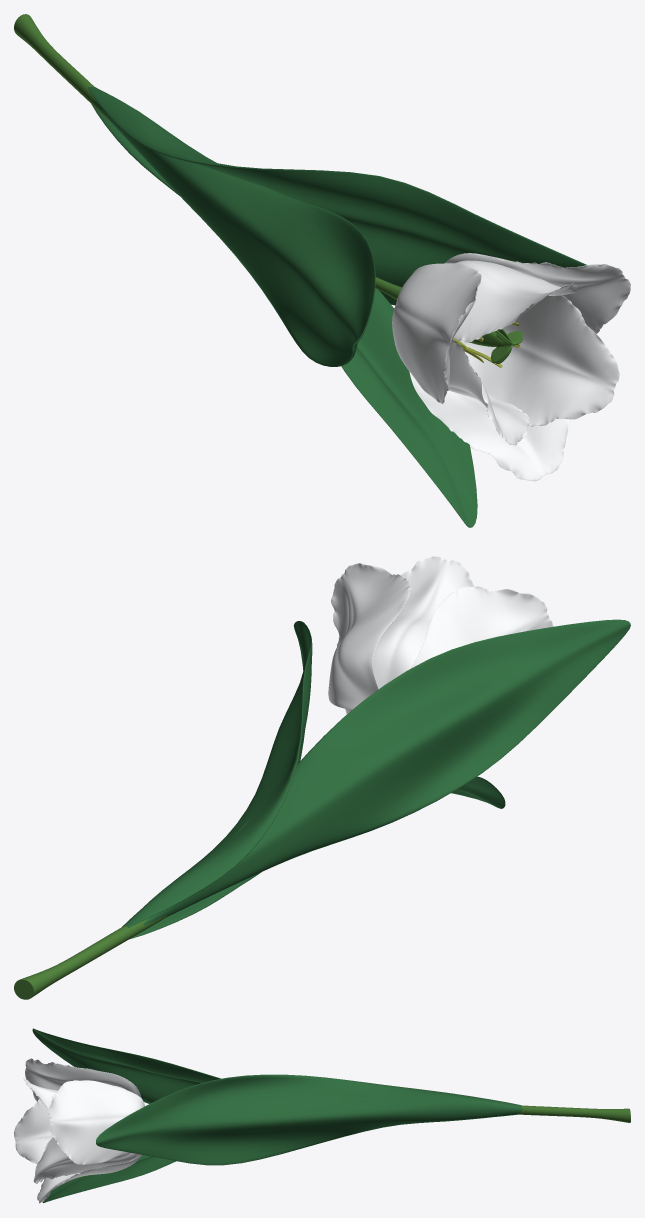
File: tulip.glb
3 views of the same model, one above another, from view 1: azimuth 30°, elevation 25°; view 2: azimuth 150°, elevation 25°; view 3: azimuth 270°, elevation 25° (orthographic). The views are drawn at different scales.
Parts seen in each view (by area): view 1: leaf3, leaf2, petal6, leaf, petal5, petal2, petal4, petal3, stalk, petal; view 2: leaf3, leaf2, petal3, petal5, petal4, stalk, leaf; view 3: leaf2, petal3, leaf3, petal5, leaf, petal, petal6, stalk, petal2, petal4.
Boxes of the visible parts, x1,y1,x2,y2 form: leaf3: [93, 99, 375, 366]; leaf2: [88, 86, 586, 305]; petal6: [460, 295, 619, 426]; leaf: [341, 288, 477, 527]; petal5: [392, 263, 481, 404]; petal2: [409, 372, 568, 481]; petal4: [453, 260, 577, 342]; petal3: [445, 253, 630, 333]; stalk: [14, 14, 522, 363]; petal: [448, 339, 529, 445]; leaf3: [143, 619, 630, 924]; leaf2: [122, 621, 312, 938]; petal3: [328, 563, 410, 709]; petal5: [411, 586, 553, 668]; petal4: [372, 556, 474, 688]; stalk: [14, 915, 167, 999]; leaf: [451, 776, 505, 808]; leaf2: [96, 1074, 522, 1165]; petal3: [48, 1080, 144, 1165]; leaf3: [32, 1028, 386, 1103]; petal5: [25, 1058, 141, 1101]; leaf: [42, 1155, 176, 1202]; petal: [14, 1089, 58, 1163]; petal6: [33, 1137, 137, 1183]; stalk: [518, 1105, 630, 1122]; petal2: [37, 1154, 142, 1203]; petal4: [23, 1078, 125, 1107].
Bounding box in the file's own units: 5.89 × 4.41 × 16.89.
